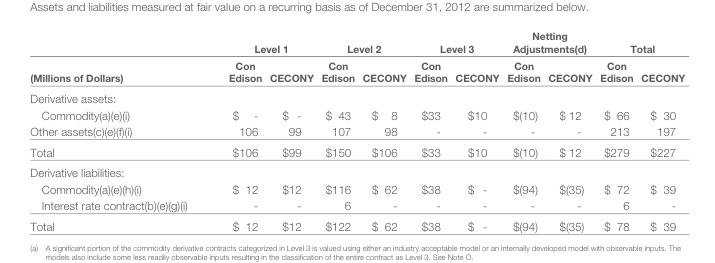table: (29, 29, 684, 232)
table column: (29, 29, 207, 232), (207, 29, 265, 232), (357, 29, 409, 232), (450, 29, 502, 232), (543, 29, 595, 232), (265, 29, 316, 232), (636, 29, 684, 232), (316, 29, 357, 232), (409, 29, 450, 232), (502, 29, 543, 232), (595, 29, 636, 232)
table column header: (29, 29, 684, 87)
table projected row header: (29, 87, 684, 105), (29, 161, 684, 179)
table row: (29, 56, 684, 87), (29, 29, 684, 56), (29, 140, 684, 161), (29, 196, 684, 215), (29, 87, 684, 105), (29, 122, 684, 140), (29, 161, 684, 179), (29, 105, 684, 122), (29, 179, 684, 196), (29, 215, 684, 232)
table spanning cell: (29, 29, 207, 87), (207, 29, 316, 56), (316, 29, 409, 56), (409, 29, 502, 56), (502, 29, 595, 56), (595, 29, 684, 56)
